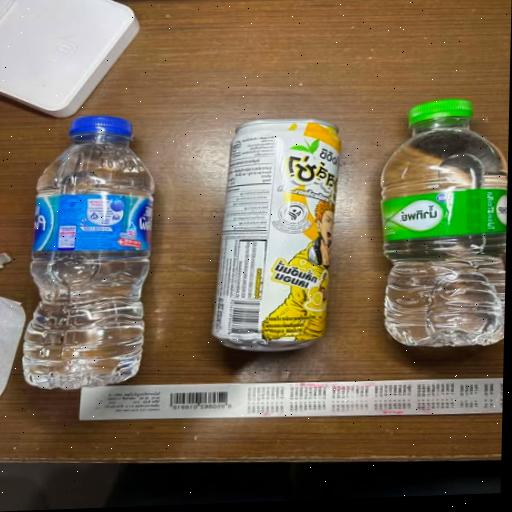bottle: (0, 77, 186, 402), (356, 90, 510, 367)
canned: (170, 89, 364, 373)
